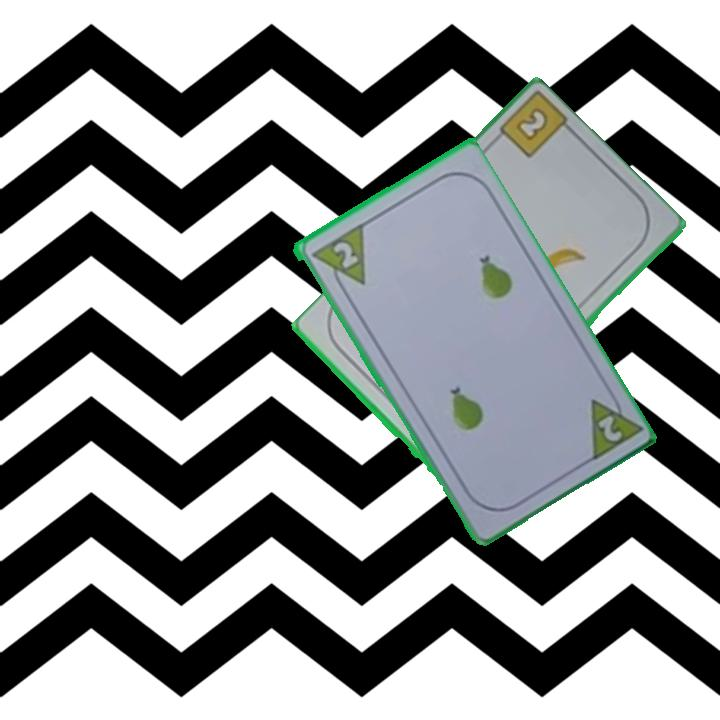2b: (512, 104, 552, 145)
2p: (306, 221, 368, 298), (593, 411, 625, 445)
